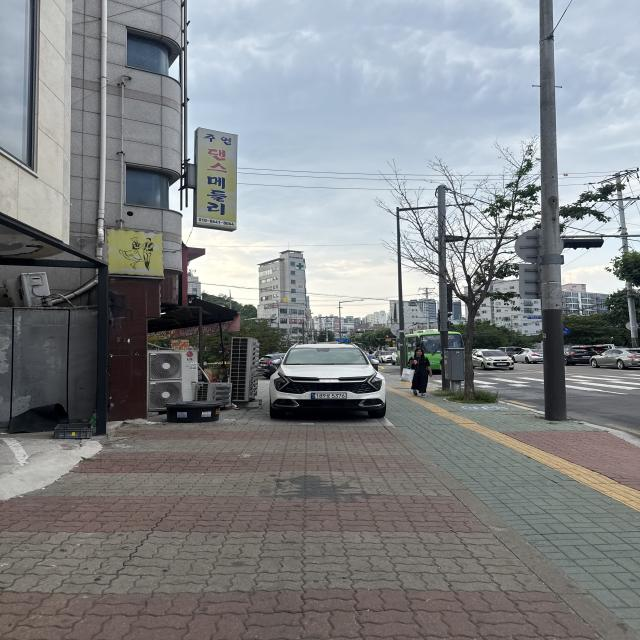car: (262, 318, 403, 441)
